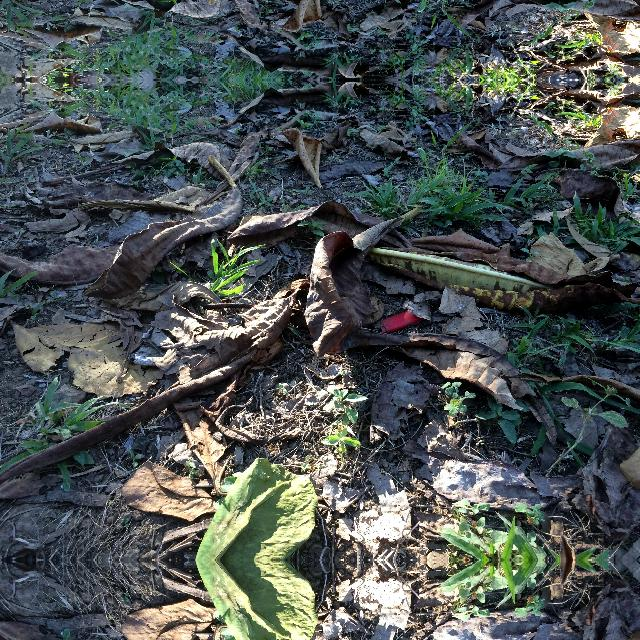Plastic: (368, 306, 430, 334)
